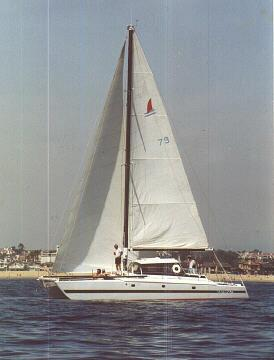Ship: (46, 27, 249, 302)
